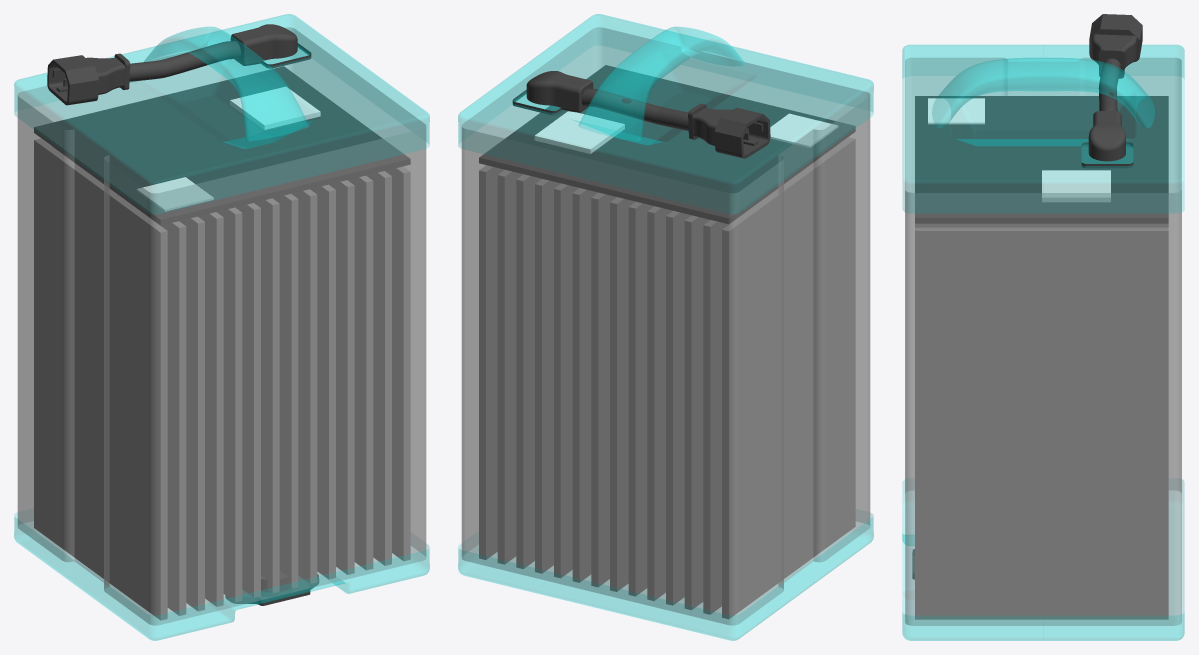
3 views of the same model, side by side, from view 1: azimuth 30°, elevation 25°; view 2: azimuth 150°, elevation 25°; view 3: azimuth 270°, elevation 25° (orthographic).
Visible parts, largest first — view 1: 零件几何体(DE2FD65F-CFE7-4EF3-B103-8C530425B037), 图层 01(172B2667-07C9-4190-9A50-A73F38D256C8), 图层 03(F8A43F9D-F649-4C4B-B59F-85E50CFB12F5), 图层 04(B7129BD5-68BC-46CA-8131-5149216F4C81), 图层 03(71A862F6-BFCE-4AB4-AFB2-FE093DF6D196), 图层 01(5127FAB4-E00C-4685-9F0D-6E076362304D), 图层 01(912AA0A9-BFA9-4AF9-B0F3-5AEABCD74D00), 图层 01(6309EEF6-4DB4-453F-98DE-0FAA0D19D2AC), 图层 01(98B635BB-B496-4E30-B1EA-AB867F63C197), 图层 01(125EF909-CB8B-4FDC-84C1-1A4918BF5404), Brep With Voids(20C485CF-E6FA-42C1-96EB-B26C3E16D4D8), 图层 01(F35B3FB4-53BE-4788-8862-8CE3CC02D139) (+11 smaller); view 2: 零件几何体(DE2FD65F-CFE7-4EF3-B103-8C530425B037), 图层 01(172B2667-07C9-4190-9A50-A73F38D256C8), 图层 03(F8A43F9D-F649-4C4B-B59F-85E50CFB12F5), 图层 04(B7129BD5-68BC-46CA-8131-5149216F4C81), 图层 03(71A862F6-BFCE-4AB4-AFB2-FE093DF6D196), 图层 01(67DF1876-5459-41DC-8931-023ABEF8D734), 图层 01(E03918B5-CFF5-44D8-848D-9B973E71E291), 图层 01(01F5EA34-5C64-4115-A881-93790751A954), 图层 01(912AA0A9-BFA9-4AF9-B0F3-5AEABCD74D00), Brep With Voids(20C485CF-E6FA-42C1-96EB-B26C3E16D4D8), 图层 01(5127FAB4-E00C-4685-9F0D-6E076362304D), 图层 01(6309EEF6-4DB4-453F-98DE-0FAA0D19D2AC) (+10 smaller); view 3: 零件几何体(DE2FD65F-CFE7-4EF3-B103-8C530425B037), 图层 01(211E75ED-2AB1-444E-B7D9-A4C801579DBF), 图层 03(F8A43F9D-F649-4C4B-B59F-85E50CFB12F5), 图层 04(B7129BD5-68BC-46CA-8131-5149216F4C81), 图层 03(71A862F6-BFCE-4AB4-AFB2-FE093DF6D196), 图层 03(BB23D25F-CD63-4DC5-8FA8-574C64C15F2B), Brep With Voids(20C485CF-E6FA-42C1-96EB-B26C3E16D4D8), 图层 04(A1BCD574-ED95-416A-9D99-0A3FA7709CC8), Brep With Voids(CB85A603-FBB2-4035-A363-DA188106FB85), 图层 01(01F5EA34-5C64-4115-A881-93790751A954), Brep With Voids(6E02EAE6-8B37-47B4-879D-881C6B93055A).
Boxes of the visible parts, x1,y1,x2,y2 form: 零件几何体(DE2FD65F-CFE7-4EF3-B103-8C530425B037): (17,27,426,625); 图层 01(172B2667-07C9-4190-9A50-A73F38D256C8): (34,138,167,620); 图层 03(F8A43F9D-F649-4C4B-B59F-85E50CFB12F5): (14,14,429,213); 图层 04(B7129BD5-68BC-46CA-8131-5149216F4C81): (34,66,410,225); 图层 03(71A862F6-BFCE-4AB4-AFB2-FE093DF6D196): (14,513,429,640); 图层 01(5127FAB4-E00C-4685-9F0D-6E076362304D): (53,147,186,615); 图层 01(912AA0A9-BFA9-4AF9-B0F3-5AEABCD74D00): (292,189,317,583); 图层 01(6309EEF6-4DB4-453F-98DE-0FAA0D19D2AC): (348,175,373,569); 图层 01(98B635BB-B496-4E30-B1EA-AB867F63C197): (217,207,242,601); 图层 01(125EF909-CB8B-4FDC-84C1-1A4918BF5404): (273,194,298,588); Brep With Voids(20C485CF-E6FA-42C1-96EB-B26C3E16D4D8): (47,24,311,105); 图层 01(F35B3FB4-53BE-4788-8862-8CE3CC02D139): (329,180,354,574); 零件几何体(DE2FD65F-CFE7-4EF3-B103-8C530425B037): (461,27,870,625); 图层 01(172B2667-07C9-4190-9A50-A73F38D256C8): (722,137,855,618); 图层 03(F8A43F9D-F649-4C4B-B59F-85E50CFB12F5): (458,14,873,213); 图层 04(B7129BD5-68BC-46CA-8131-5149216F4C81): (479,65,855,223); 图层 03(71A862F6-BFCE-4AB4-AFB2-FE093DF6D196): (458,513,873,640); 图层 01(67DF1876-5459-41DC-8931-023ABEF8D734): (684,215,709,609); 图层 01(E03918B5-CFF5-44D8-848D-9B973E71E291): (628,202,653,596); 图层 01(01F5EA34-5C64-4115-A881-93790751A954): (497,170,522,564); 图层 01(912AA0A9-BFA9-4AF9-B0F3-5AEABCD74D00): (572,188,597,582); Brep With Voids(20C485CF-E6FA-42C1-96EB-B26C3E16D4D8): (512,71,770,158); 图层 01(5127FAB4-E00C-4685-9F0D-6E076362304D): (703,147,834,614); 图层 01(6309EEF6-4DB4-453F-98DE-0FAA0D19D2AC): (516,174,541,568); 零件几何体(DE2FD65F-CFE7-4EF3-B103-8C530425B037): (905,58,1181,625); 图层 01(211E75ED-2AB1-444E-B7D9-A4C801579DBF): (915,227,1168,619); 图层 03(F8A43F9D-F649-4C4B-B59F-85E50CFB12F5): (902,44,1184,213); 图层 04(B7129BD5-68BC-46CA-8131-5149216F4C81): (915,96,1168,223); 图层 03(71A862F6-BFCE-4AB4-AFB2-FE093DF6D196): (902,480,1184,640); 图层 03(BB23D25F-CD63-4DC5-8FA8-574C64C15F2B): (932,58,1154,127); Brep With Voids(20C485CF-E6FA-42C1-96EB-B26C3E16D4D8): (1081,14,1142,168); 图层 04(A1BCD574-ED95-416A-9D99-0A3FA7709CC8): (1042,170,1110,201); Brep With Voids(CB85A603-FBB2-4035-A363-DA188106FB85): (928,98,984,124); 图层 01(01F5EA34-5C64-4115-A881-93790751A954): (915,223,1168,227); Brep With Voids(6E02EAE6-8B37-47B4-879D-881C6B93055A): (1082,143,1132,163).
Size of the model in its own units: 0.0101 by 0.0176 by 0.00876.
